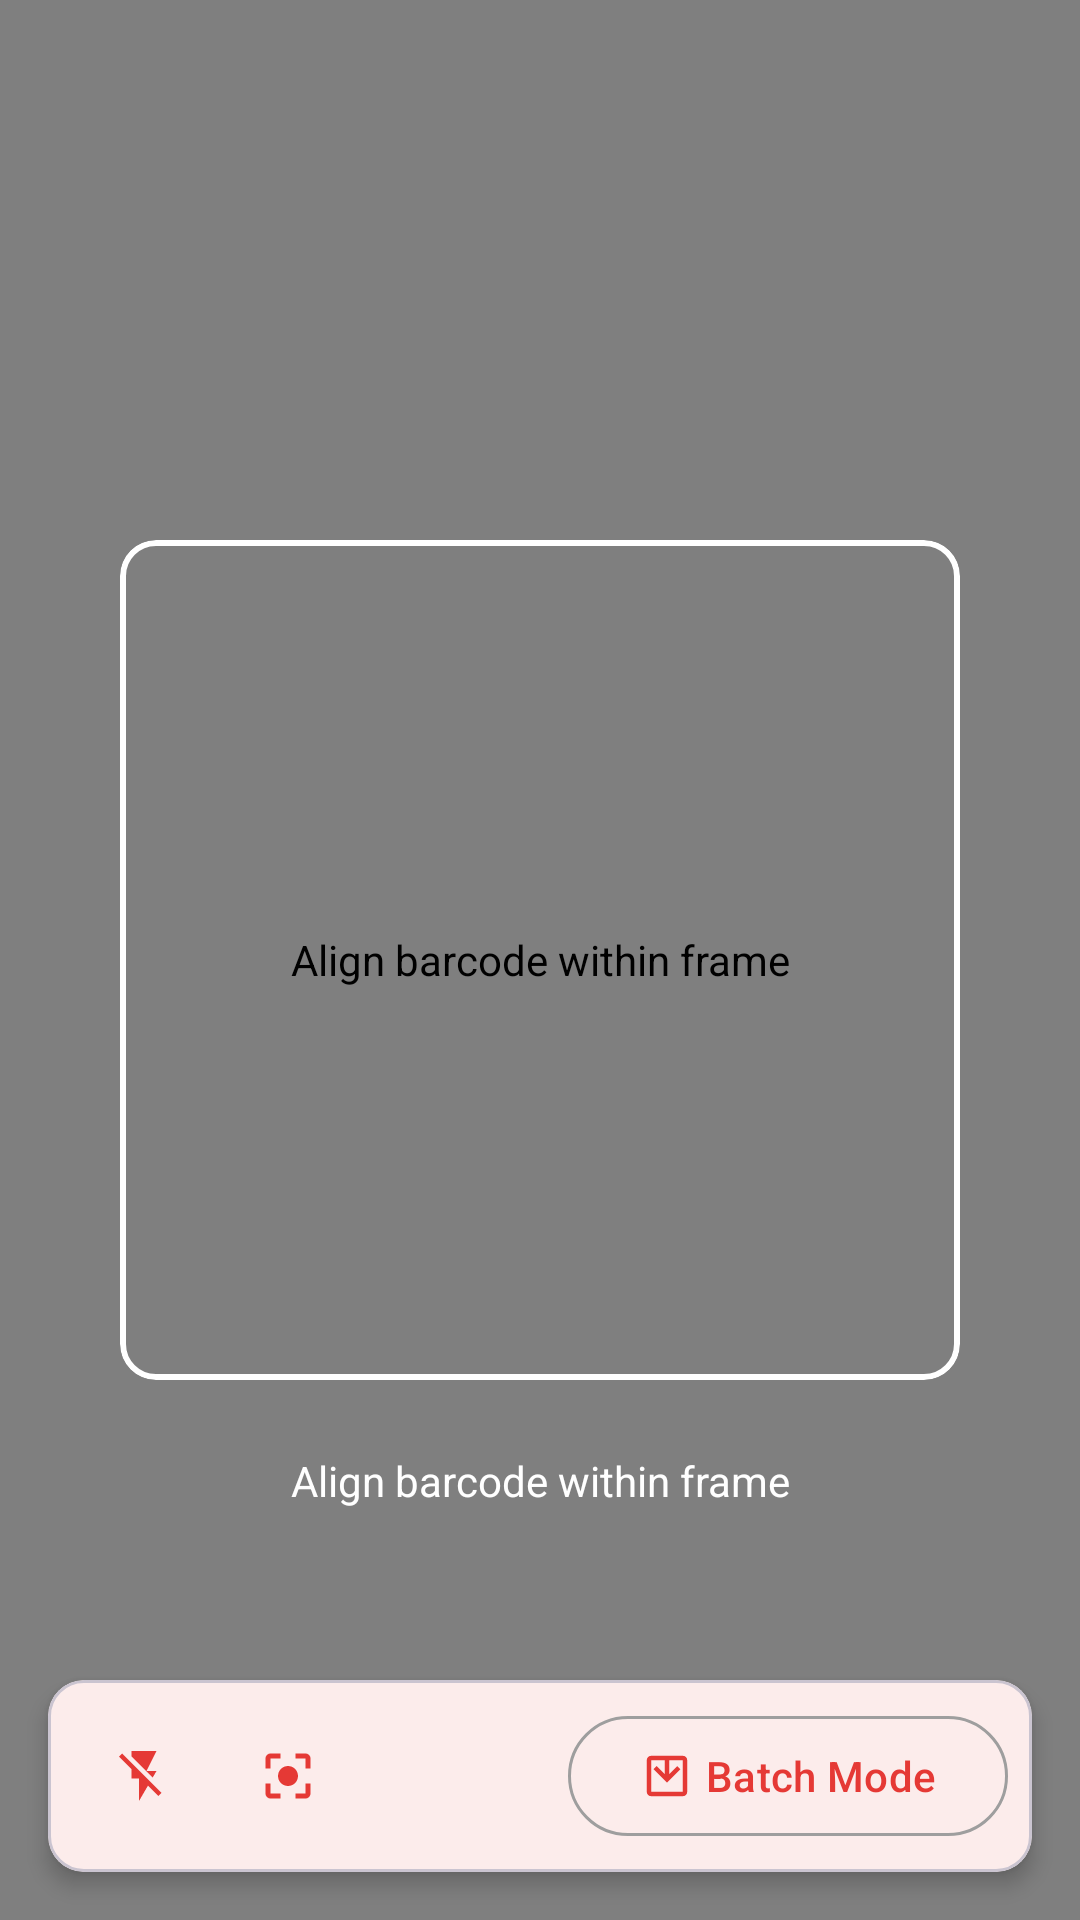

Icons on this 1080*1920 Android screen, each with the point to tap as [x,y]:
Auto Focus: [288,1776]
Flash: [140,1776]
